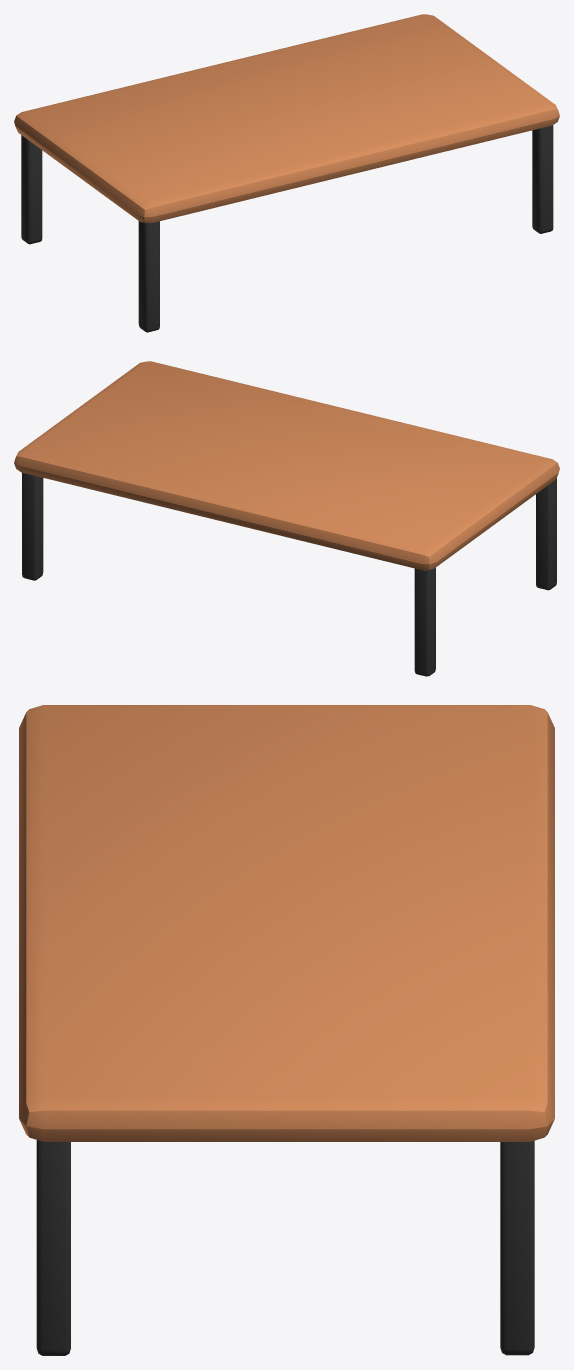
Rendered from Props_Table_05.fbx.
3 renders of one model, top to bottom at view 1: azimuth 30°, elevation 25°; view 2: azimuth 150°, elevation 25°; view 3: azimuth 270°, elevation 25°, orthographic. The views are drawn at different scales.
Parts seen in each view (by area): view 1: Props_Table_05; view 2: Props_Table_05; view 3: Props_Table_05.
Part boxes in pixels (box(x1,y1,x2,y2)): Props_Table_05: box(14, 14, 559, 332); Props_Table_05: box(14, 361, 559, 676); Props_Table_05: box(19, 705, 554, 1355).
Bounding box in the file's own units: 200 × 58.24 × 110.
